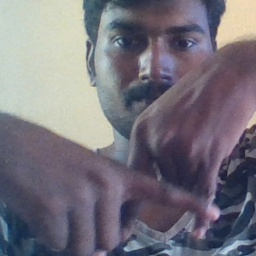H: (105, 113, 225, 243)
